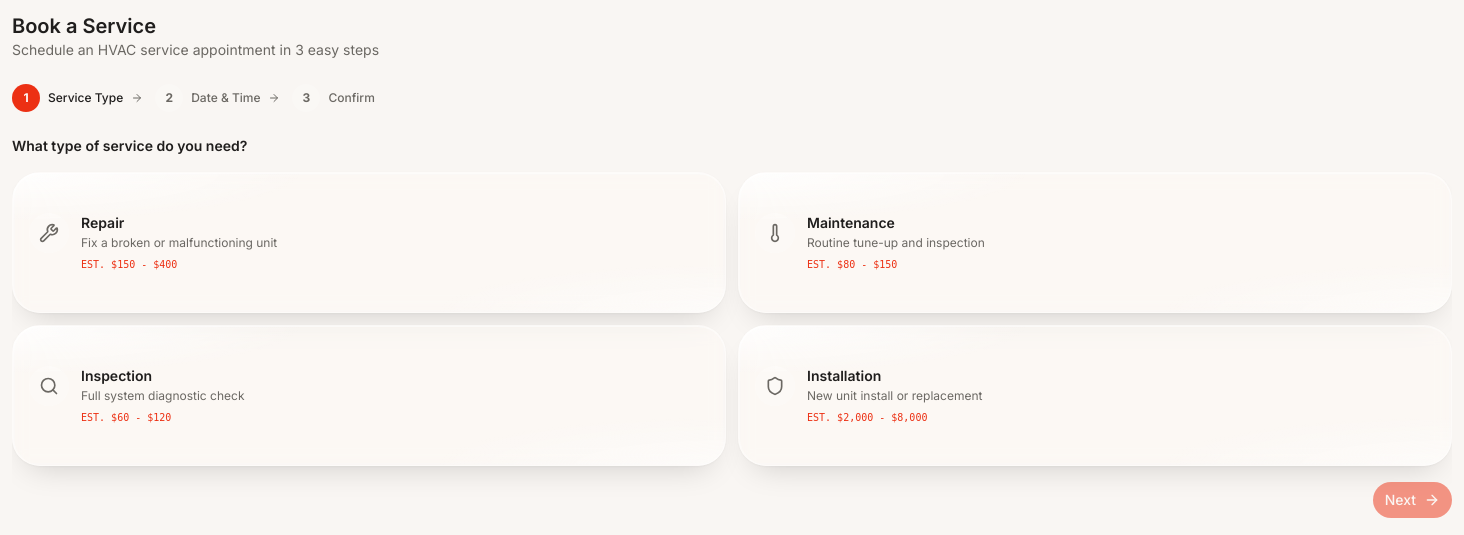
it: CustomerBook booking form › enables Next button after selecting a service type
// Click the Repair card
Click the heading "Repair".
click(103, 222)  # box 81,214 -> 124,231
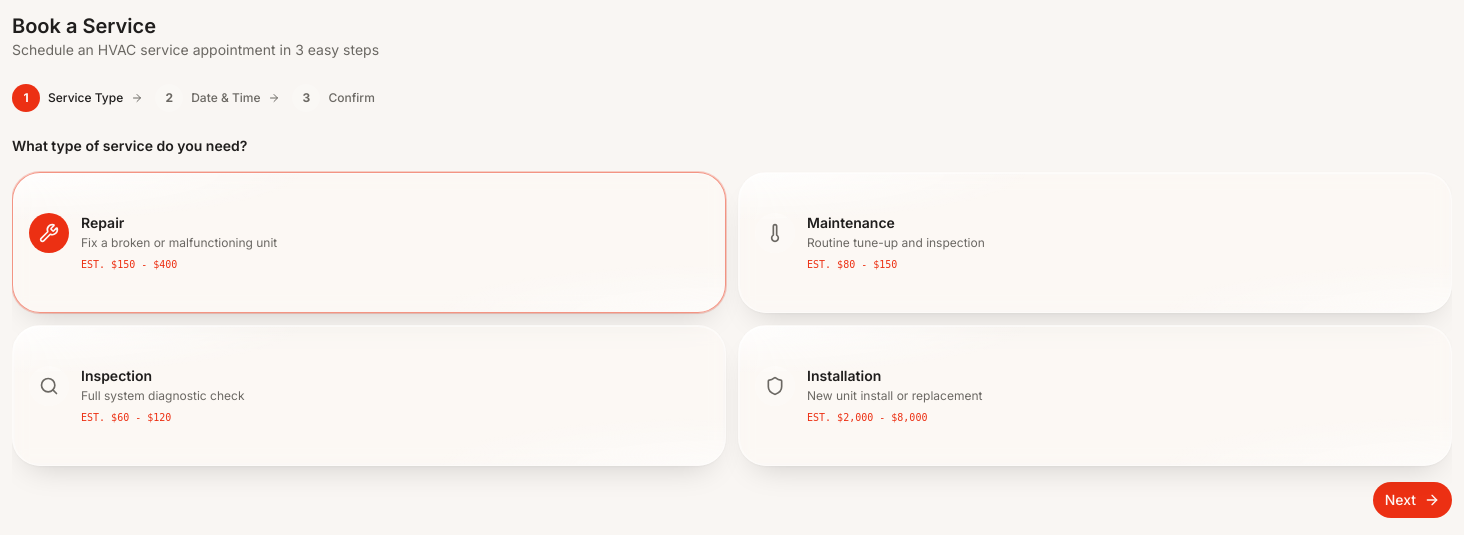
Check: the button "Next" is enabled, box 1373,482 -> 1452,518
